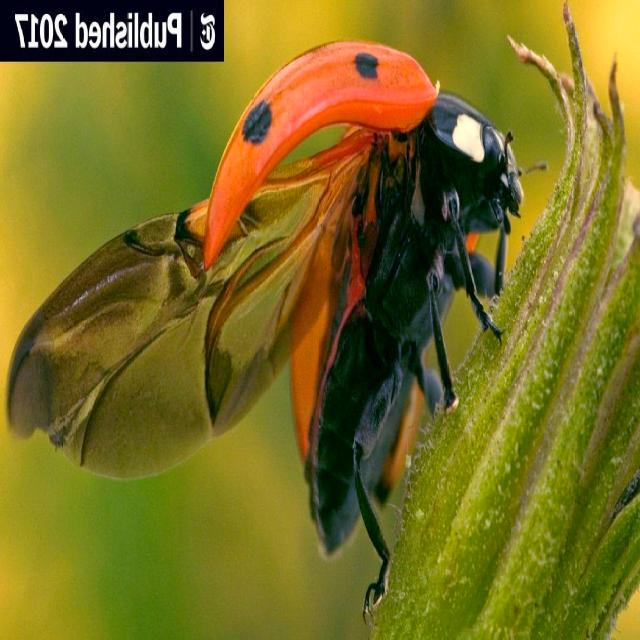ladybug: (7, 42, 524, 618)
